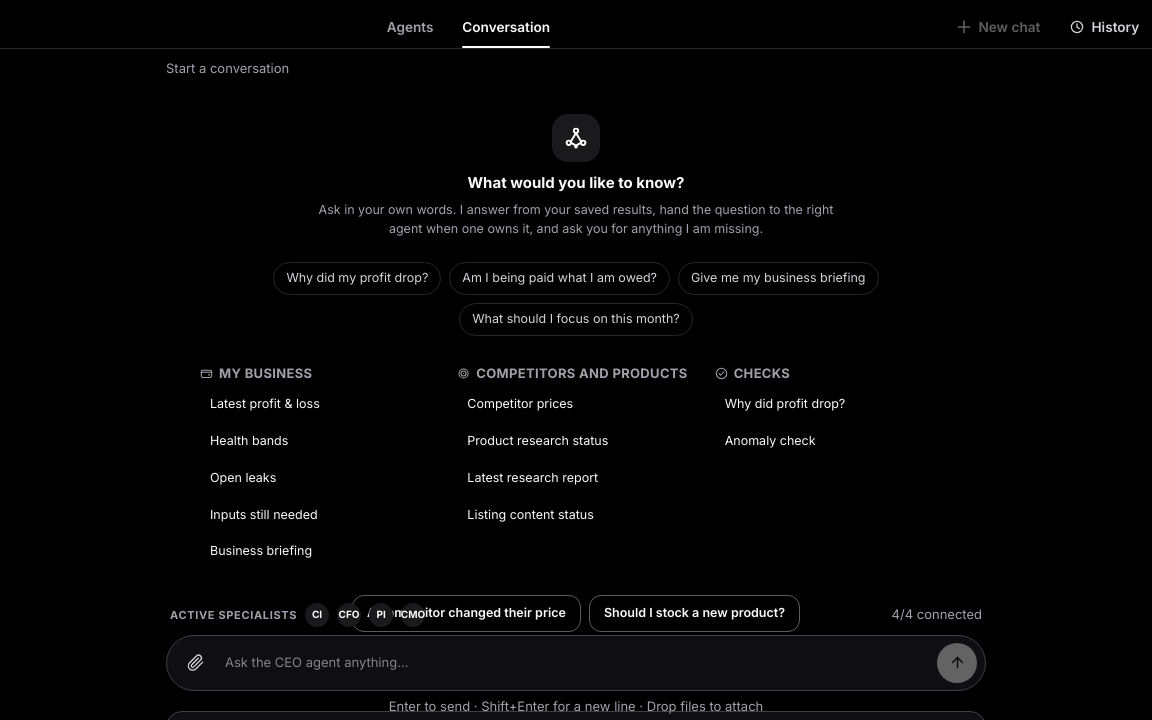
Scenario: follow-up lookup steps › shows who asked whom for what and the outcome in plain words (DENIED)
The width and height of the screenshot is (1152, 720).
Step 1. Click the button with test id "open-drawer" → (1104, 27), box x1=1056 y1=8 x2=1151 y2=46
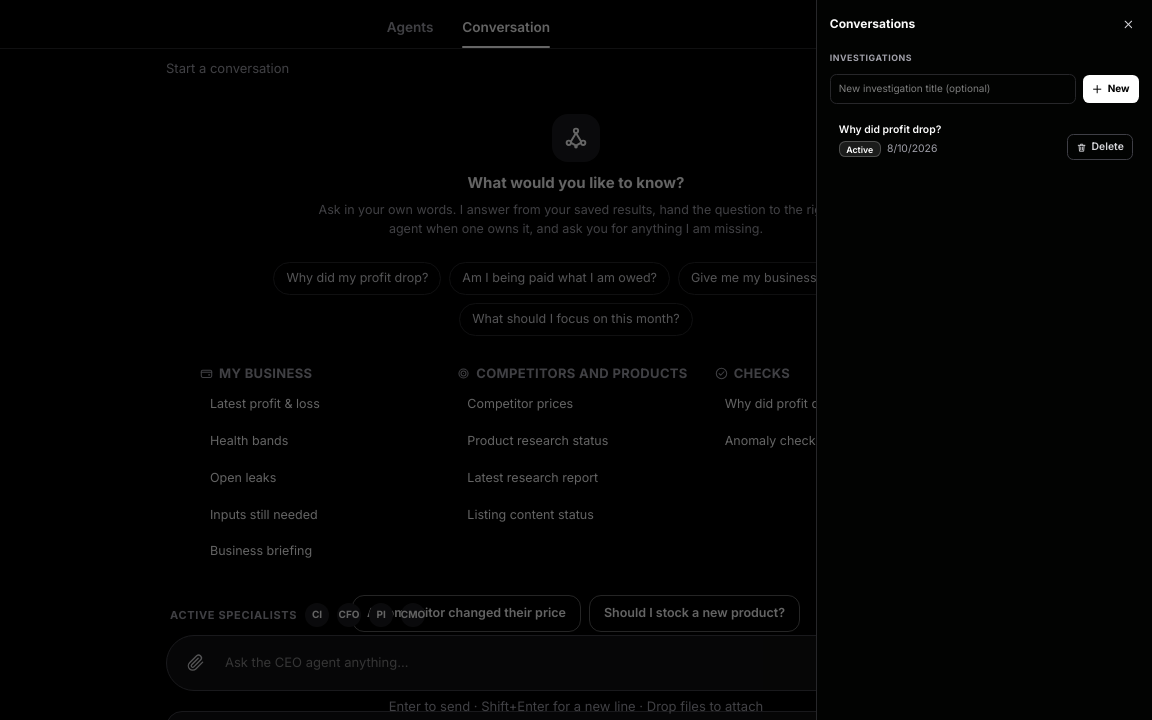
Step 2. Click the button "Why did profit drop? Active 8/10/2026" → (890, 130), box x1=830 y1=113 x2=1139 y2=166
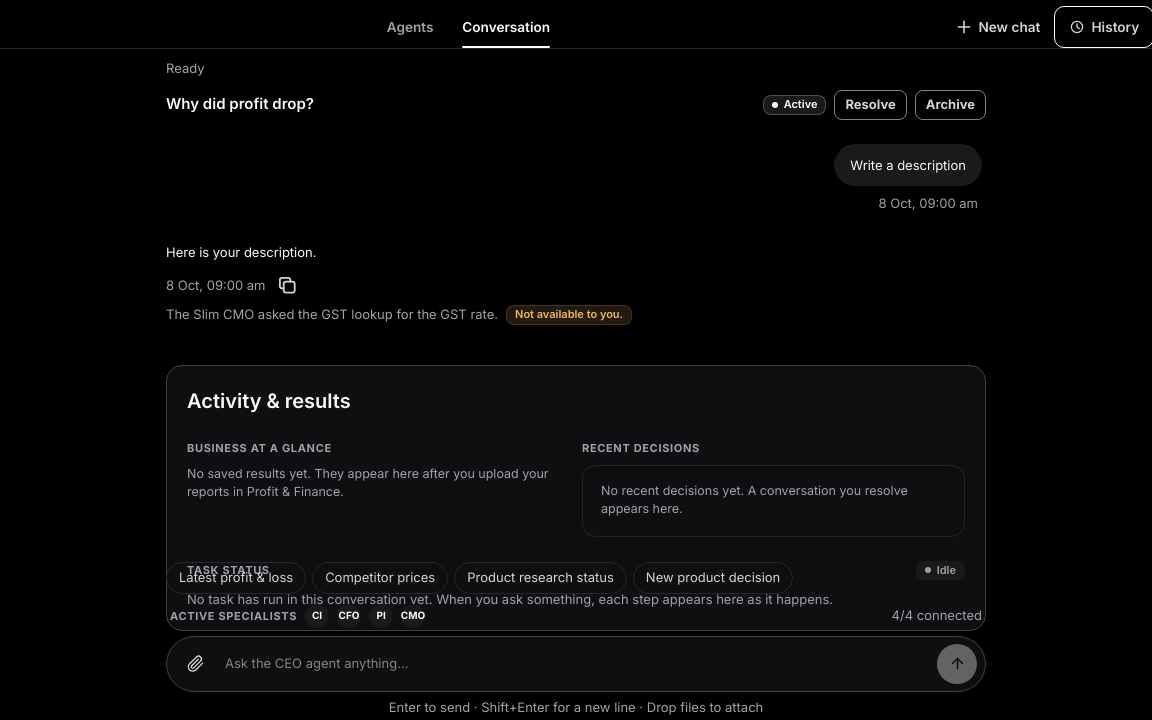
Now the element with test id "conversation" is shown, box x1=166 y1=90 x2=986 y2=353
Now the list item with test id "need-step-n1" shows "The Slim CMO asked the GST lookup for the GST rate.", box x1=166 y1=306 x2=498 y2=322
Now the text "Not available to you." is shown, box x1=506 y1=305 x2=632 y2=325
